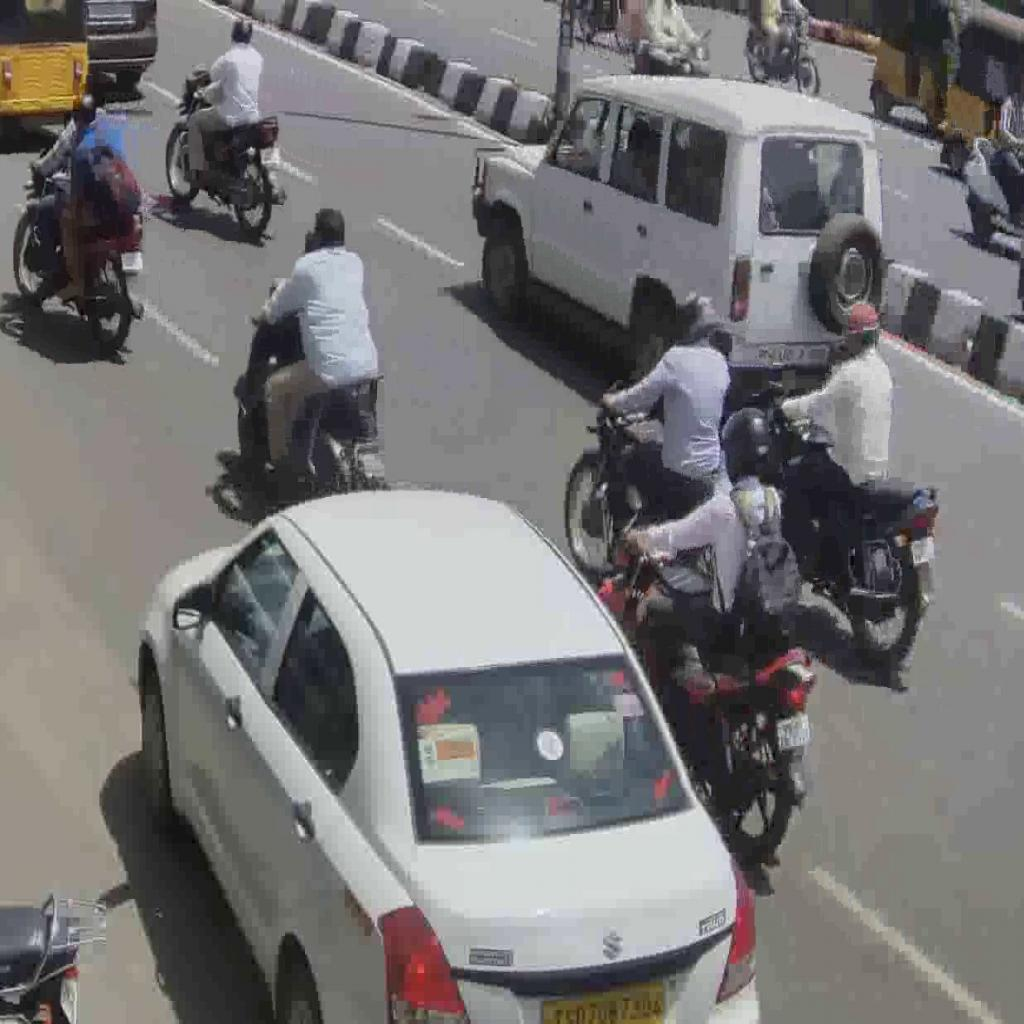helmet: (596, 539, 820, 857), (747, 384, 943, 679), (232, 294, 393, 497), (9, 156, 149, 342), (566, 388, 702, 563), (166, 66, 286, 232)
